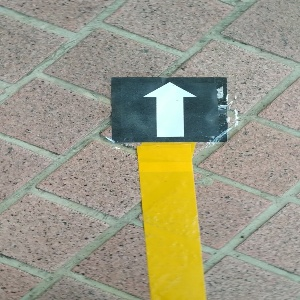straight: (111, 77, 227, 143)
